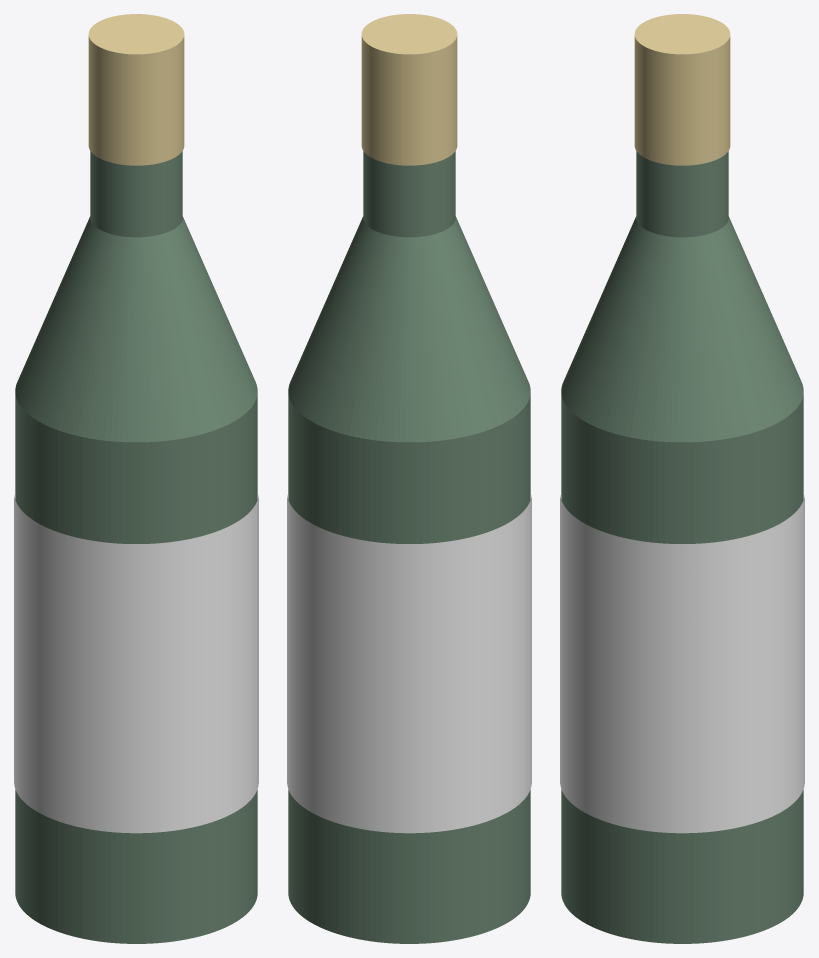
The model's file is product-customizable.glb.
The picture shows the model from 3 angles, left to right: view 1: azimuth 30°, elevation 25°; view 2: azimuth 150°, elevation 25°; view 3: azimuth 270°, elevation 25°; orthographic projection.
Parts seen in each view (by area): view 1: BODY, LABEL_PRINT, FOIL; view 2: BODY, LABEL_PRINT, FOIL; view 3: BODY, LABEL_PRINT, FOIL.
Part boxes in pixels (x1,y1,x2,y2): BODY: (15,151,257,943); LABEL_PRINT: (14,495,258,833); FOIL: (88,14,184,165); BODY: (288,151,530,943); LABEL_PRINT: (287,495,531,833); FOIL: (361,14,457,165); BODY: (561,151,803,943); LABEL_PRINT: (560,495,804,833); FOIL: (634,14,730,165).
Size of the model in its own units: 7.68 by 29.85 by 7.68.
